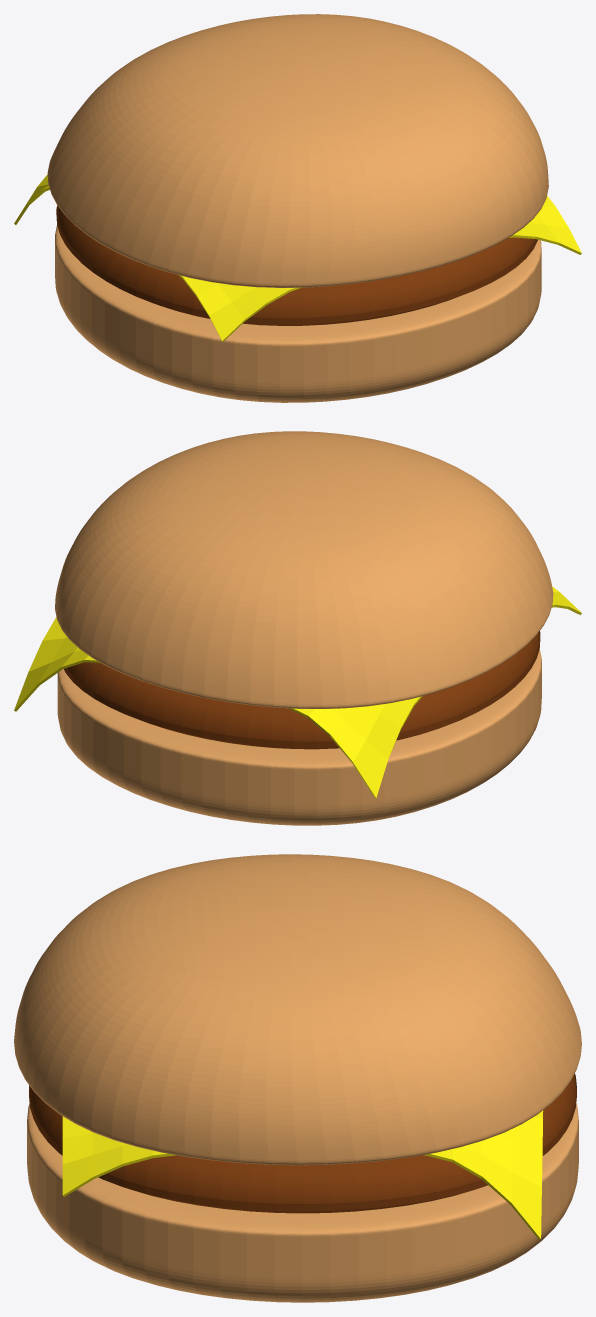
File: hamburger.glb
The picture shows the model from 3 angles, top to bottom: view 1: azimuth 30°, elevation 25°; view 2: azimuth 150°, elevation 25°; view 3: azimuth 270°, elevation 25°; orthographic projection. The views are drawn at different scales.
Parts seen in each view (by area): view 1: Cube.003, Cube, Cube.002, Plane; view 2: Cube.003, Cube, Cube.002, Plane; view 3: Cube.003, Cube, Cube.002, Plane.
Boxes of the visible parts, left/top/right/bottom form: Cube.003: left=47, top=14, right=548, bottom=287; Cube: left=55, top=225, right=541, bottom=402; Cube.002: left=56, top=205, right=537, bottom=325; Plane: left=14, top=174, right=581, bottom=341; Cube.003: left=55, top=431, right=553, bottom=708; Cube: left=57, top=649, right=541, bottom=825; Cube.002: left=64, top=631, right=540, bottom=749; Plane: left=14, top=586, right=581, bottom=798; Cube.003: left=14, top=854, right=581, bottom=1165; Cube: left=27, top=1103, right=578, bottom=1302; Cube.002: left=29, top=1073, right=576, bottom=1213; Plane: left=62, top=1110, right=543, bottom=1239.
Bounding box in the file's own units: 90.35 × 54.95 × 90.35.
